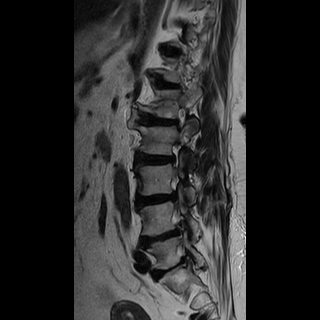LFS0: (164, 104, 191, 136)
LFS1: (160, 138, 184, 171)
